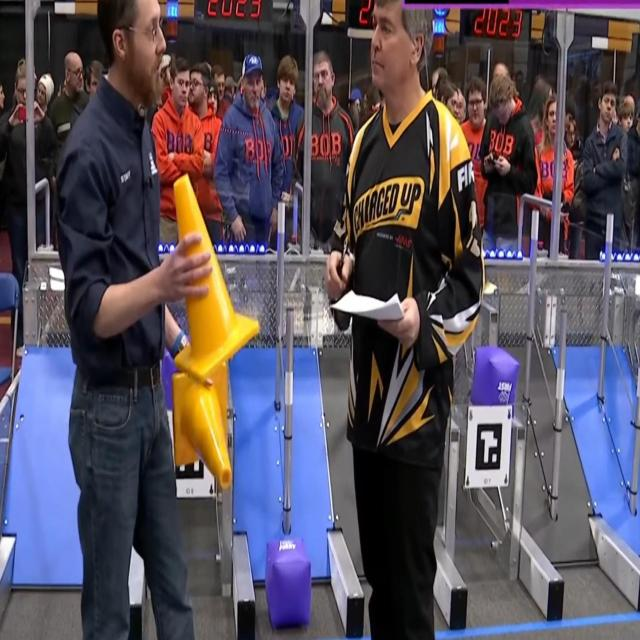frc_cone: (172, 172, 258, 380), (172, 362, 235, 494)
frc_cube: (264, 537, 312, 629), (471, 344, 517, 412)
